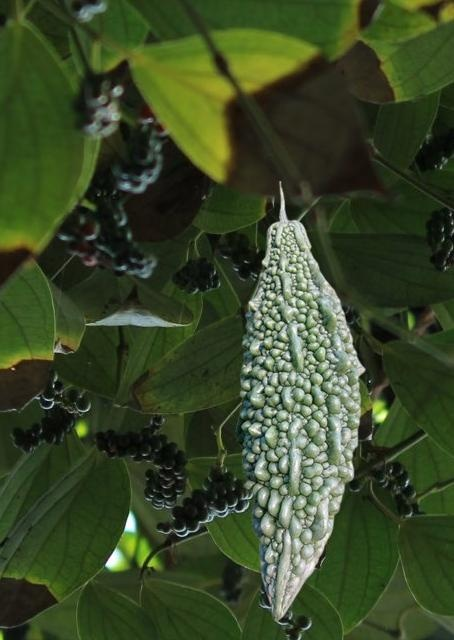ampalaya: (235, 181, 364, 620)
